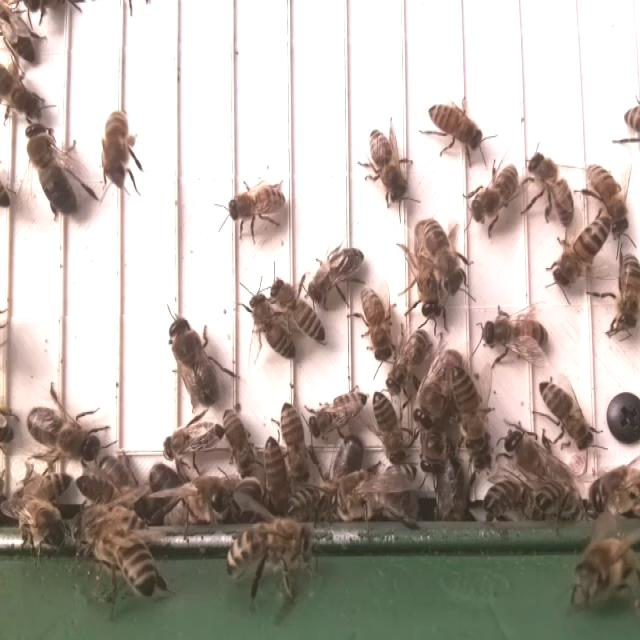Drone: (23, 119, 78, 221), (167, 314, 222, 410), (23, 402, 105, 463), (409, 214, 446, 325)
Worker: (554, 216, 616, 290), (536, 378, 595, 450), (365, 123, 411, 208), (527, 151, 578, 227), (270, 280, 327, 346), (249, 287, 297, 365), (467, 161, 522, 228), (307, 384, 369, 443), (424, 98, 486, 155), (585, 159, 630, 237), (450, 365, 487, 456), (306, 244, 367, 299), (158, 415, 226, 463), (371, 388, 409, 471), (482, 312, 549, 359), (386, 329, 433, 396), (225, 179, 287, 228), (357, 287, 397, 362), (279, 400, 314, 484), (220, 405, 259, 479), (102, 106, 134, 193), (611, 251, 640, 335)
